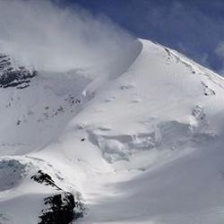neutral: (1, 11, 224, 222)
